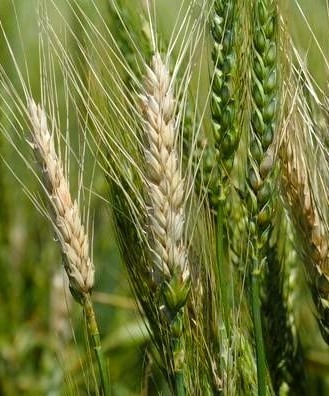Wheat scab: (130, 54, 202, 313), (20, 102, 104, 309)
